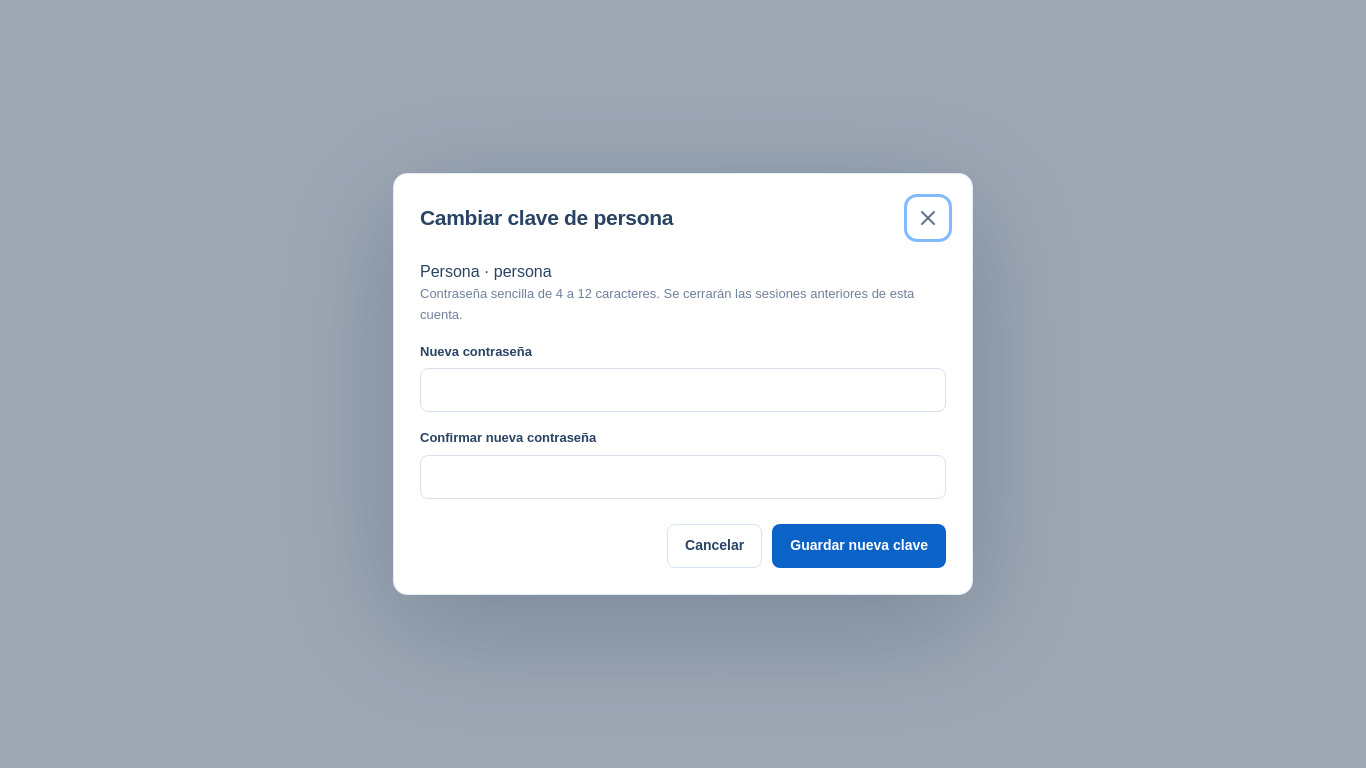
Test: confirma coincidencia antes de enviar la clave
Type "5678" into the password field labelled "Nueva contraseña" at (683, 390), box [420,368,946,412]
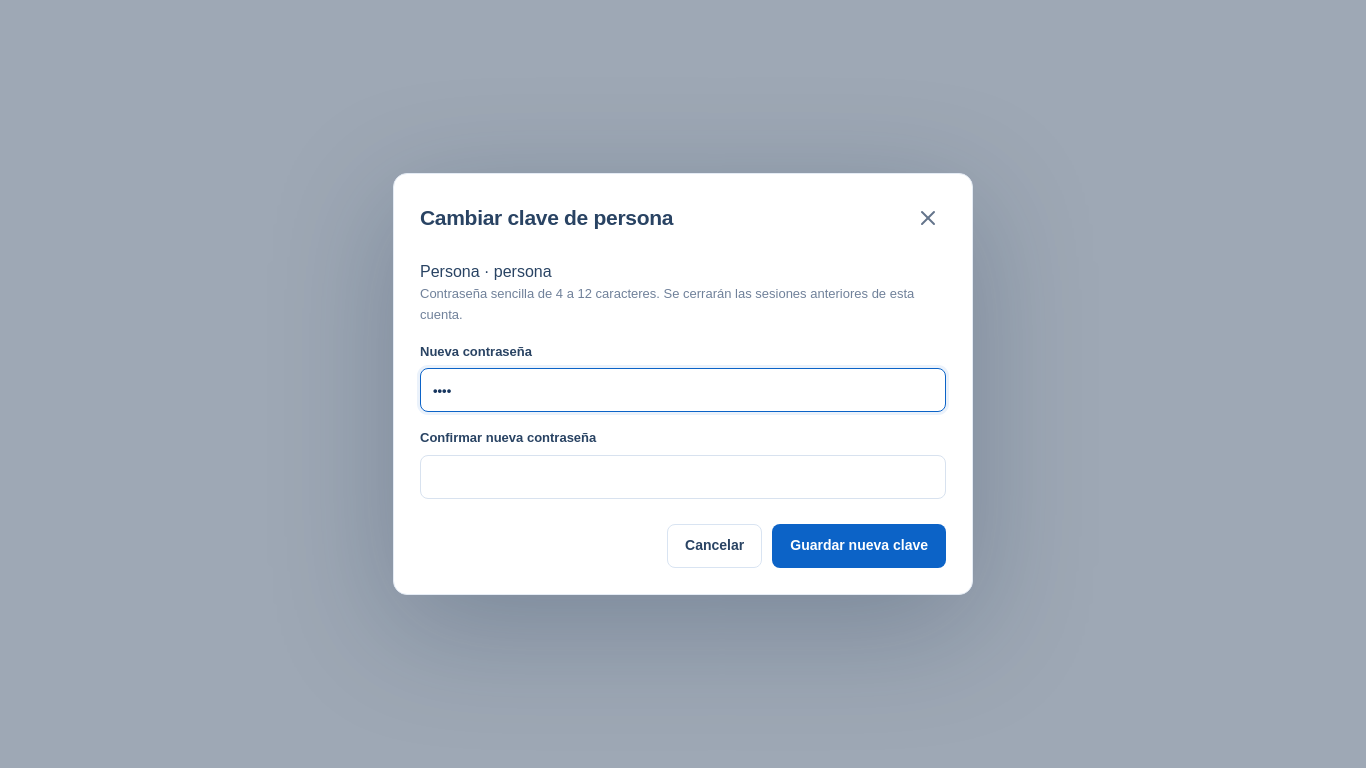
Type "9999" into the password field labelled "Confirmar nueva contraseña" at (683, 477), box [420,455,946,499]
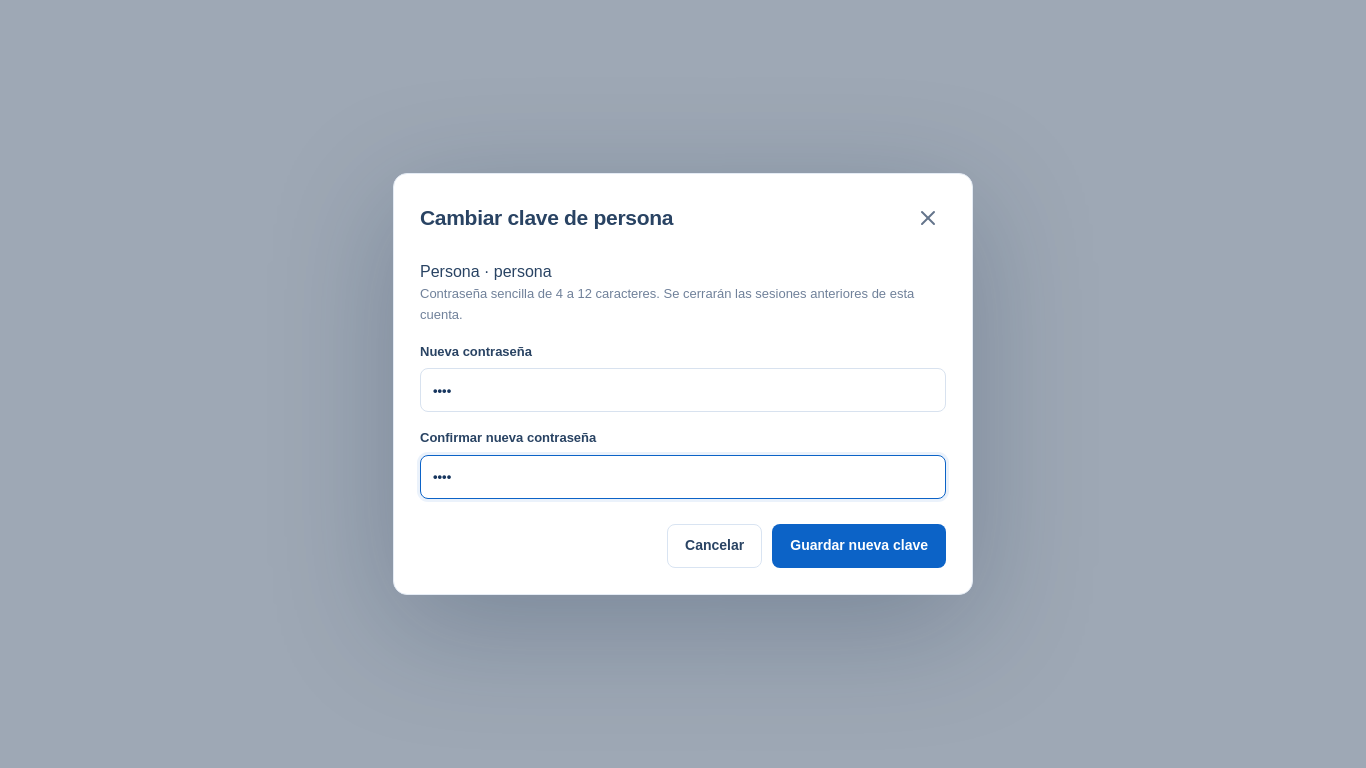
Click the button "Guardar nueva clave" at (859, 546), box [772,524,946,568]
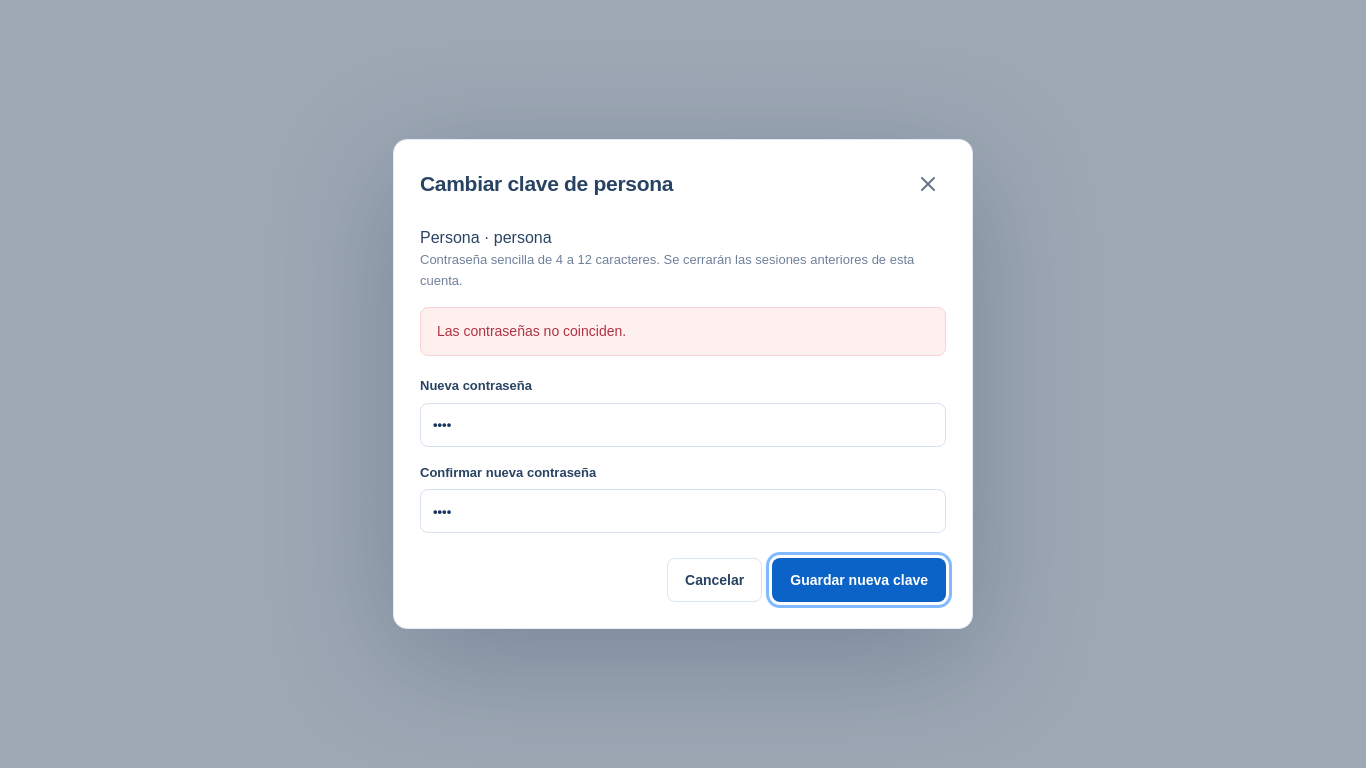
expect the message shows "no coinciden": met, box [437,323,626,339]
